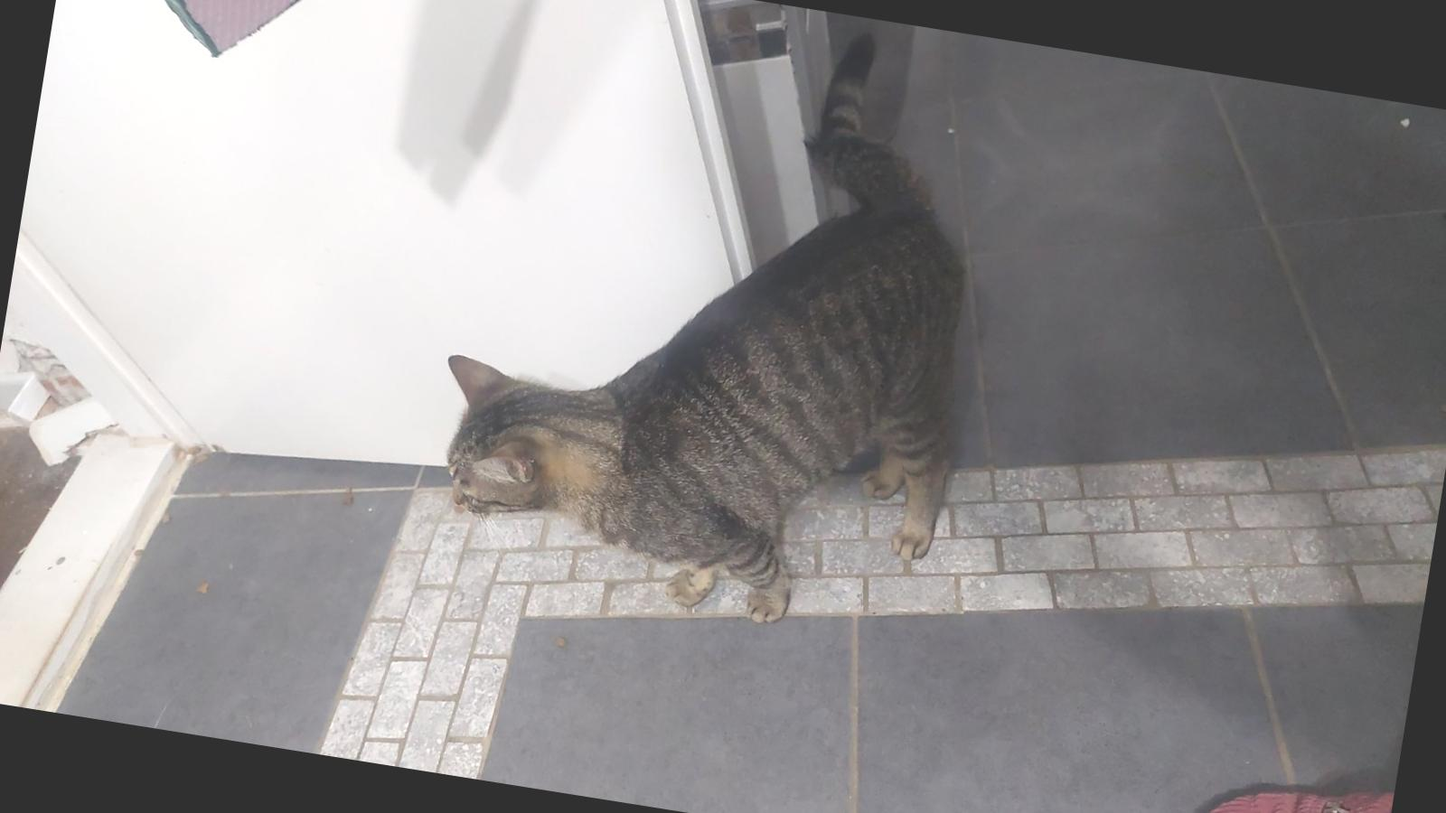macka: (411, 0, 1012, 651)
